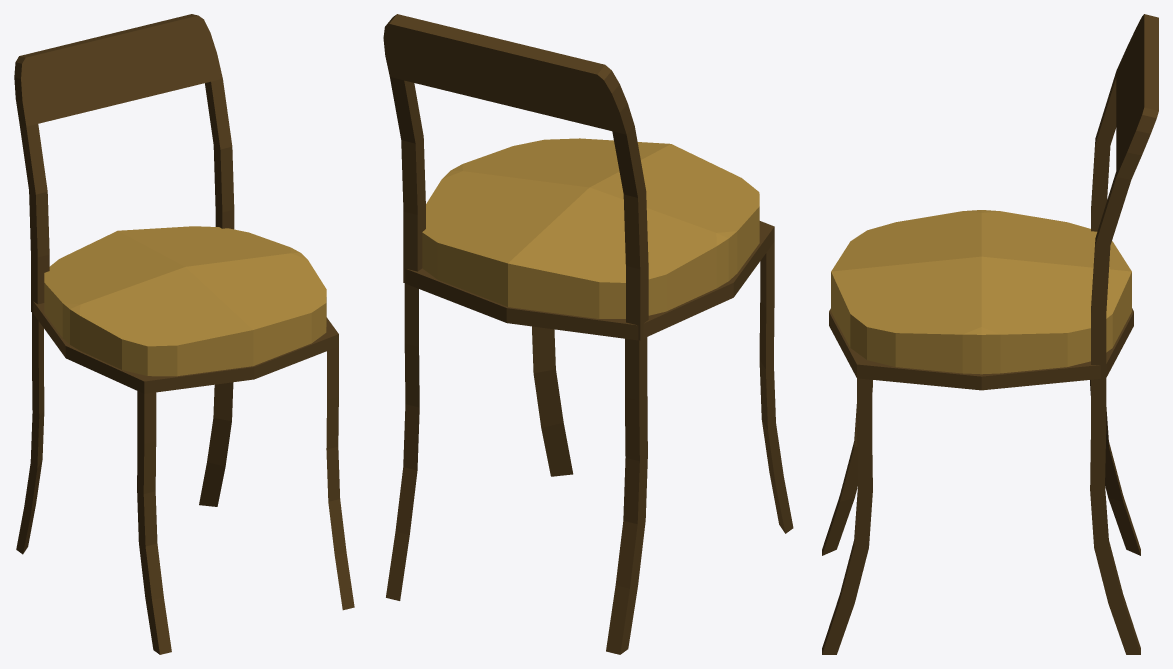
The model's file is chair.fbx.
3 views of the same model, side by side, from view 1: azimuth 30°, elevation 25°; view 2: azimuth 150°, elevation 25°; view 3: azimuth 270°, elevation 25° (orthographic). The views are drawn at different scales.
Visible parts, largest first — view 1: chair seat, chair back, chair legs, chair; view 2: chair seat, chair back, chair legs, chair; view 3: chair seat, chair legs, chair back, chair.
Boxes of the visible parts, x1=… form: chair seat: x1=44, y1=226, x2=326, y2=376; chair back: x1=14, y1=14, x2=234, y2=312; chair legs: x1=16, y1=313, x2=354, y2=654; chair: x1=33, y1=301, x2=338, y2=393; chair seat: x1=422, y1=138, x2=759, y2=318; chair back: x1=383, y1=14, x2=648, y2=340; chair legs: x1=386, y1=242, x2=793, y2=654; chair: x1=405, y1=221, x2=774, y2=340; chair seat: x1=831, y1=210, x2=1131, y2=374; chair legs: x1=822, y1=378, x2=1140, y2=654; chair back: x1=1091, y1=14, x2=1158, y2=378; chair: x1=829, y1=308, x2=1133, y2=390.
Bounding box in the file's own units: 40.17 × 44.16 × 78.31.
